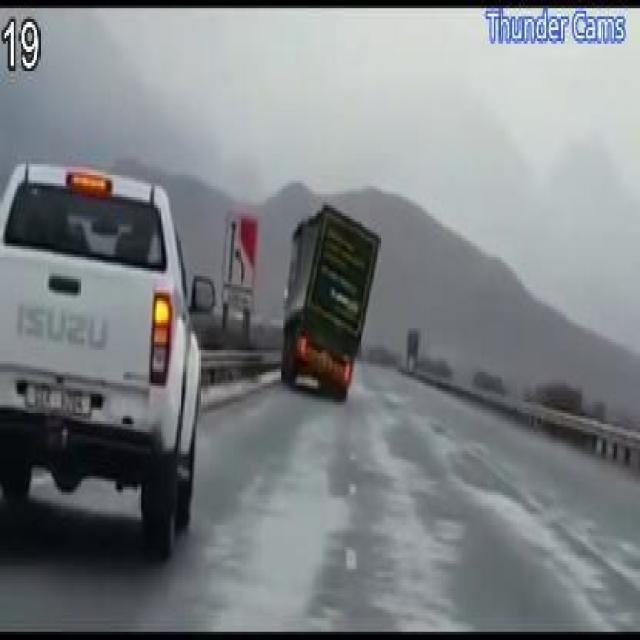accident: (275, 194, 383, 402)
